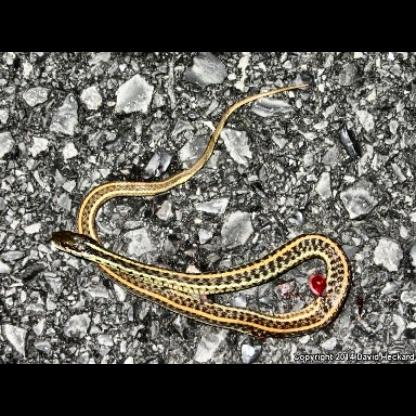Snake: (49, 173, 352, 340)
